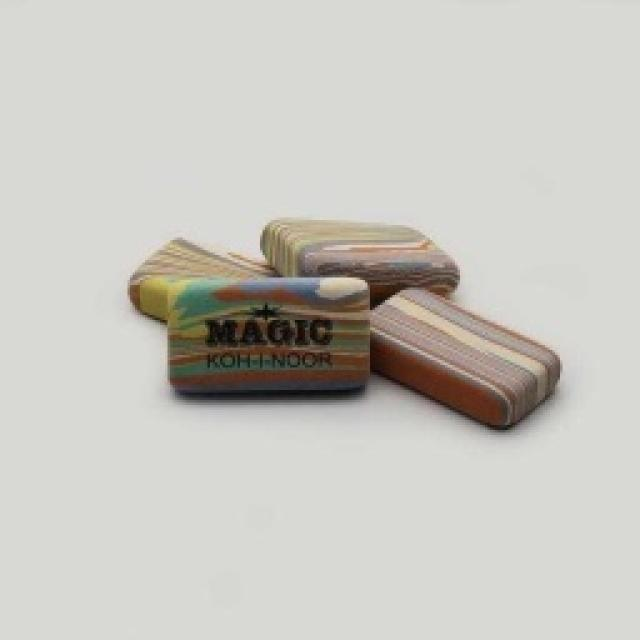Silgi: (165, 277, 374, 395)
